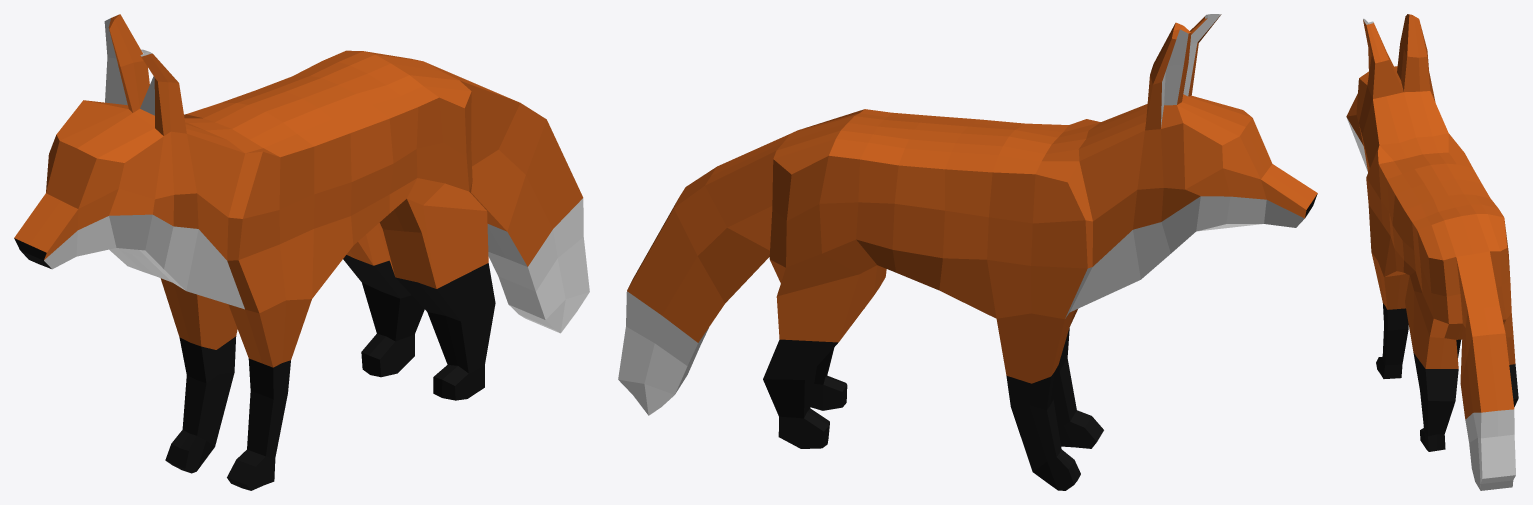
Rendered from Fox.fbx.
3 views of the same model, side by side, from view 1: azimuth 30°, elevation 25°; view 2: azimuth 150°, elevation 25°; view 3: azimuth 270°, elevation 25° (orthographic). The views are drawn at different scales.
Parts seen in each view (by area): view 1: pCube4; view 2: pCube4; view 3: pCube4.
Part boxes in pixels (x1,y1,x2,y2): pCube4: [14, 14, 589, 490]; pCube4: [618, 14, 1317, 490]; pCube4: [1346, 14, 1518, 490].
Size of the model in its own units: 2.98 by 2.19 by 1.04.
